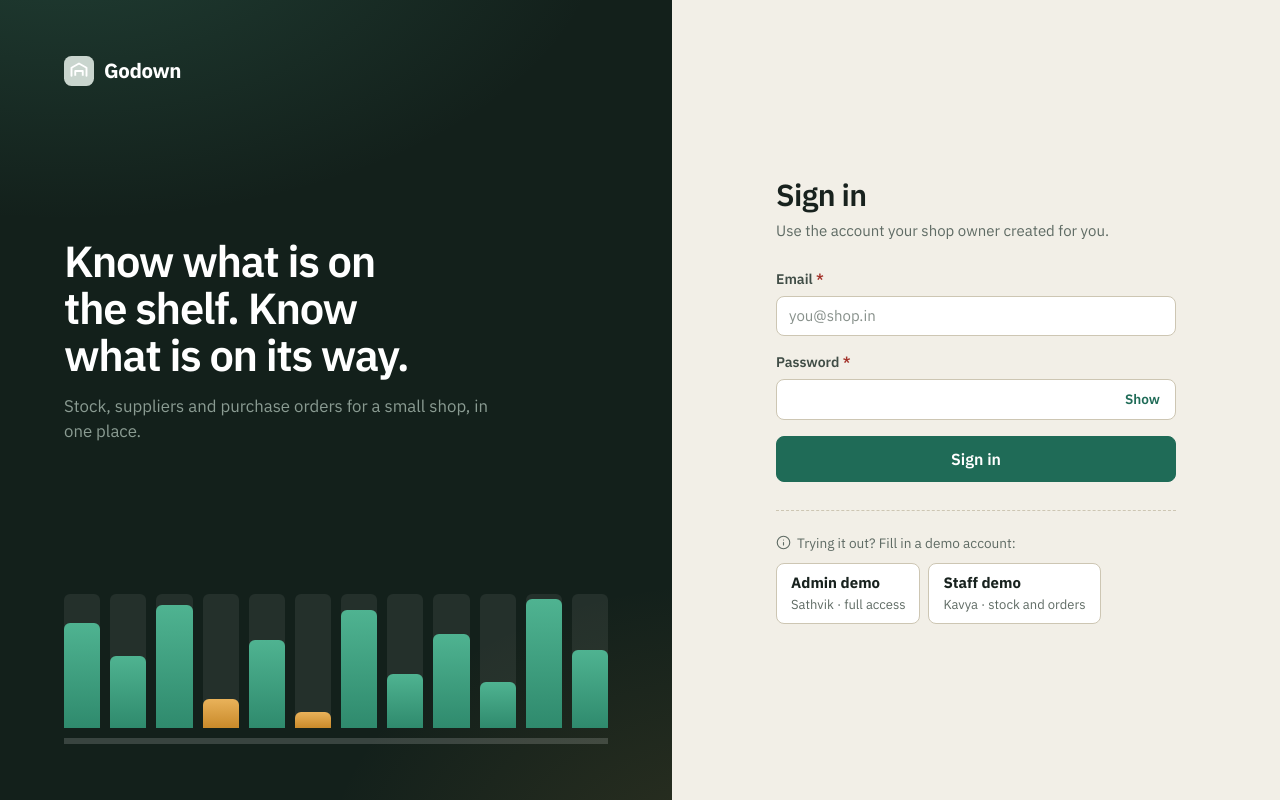
login › rejects a malformed email
Type "not-an-email" into the field labelled "Email *" at [976, 316], box [776,296,1176,336]
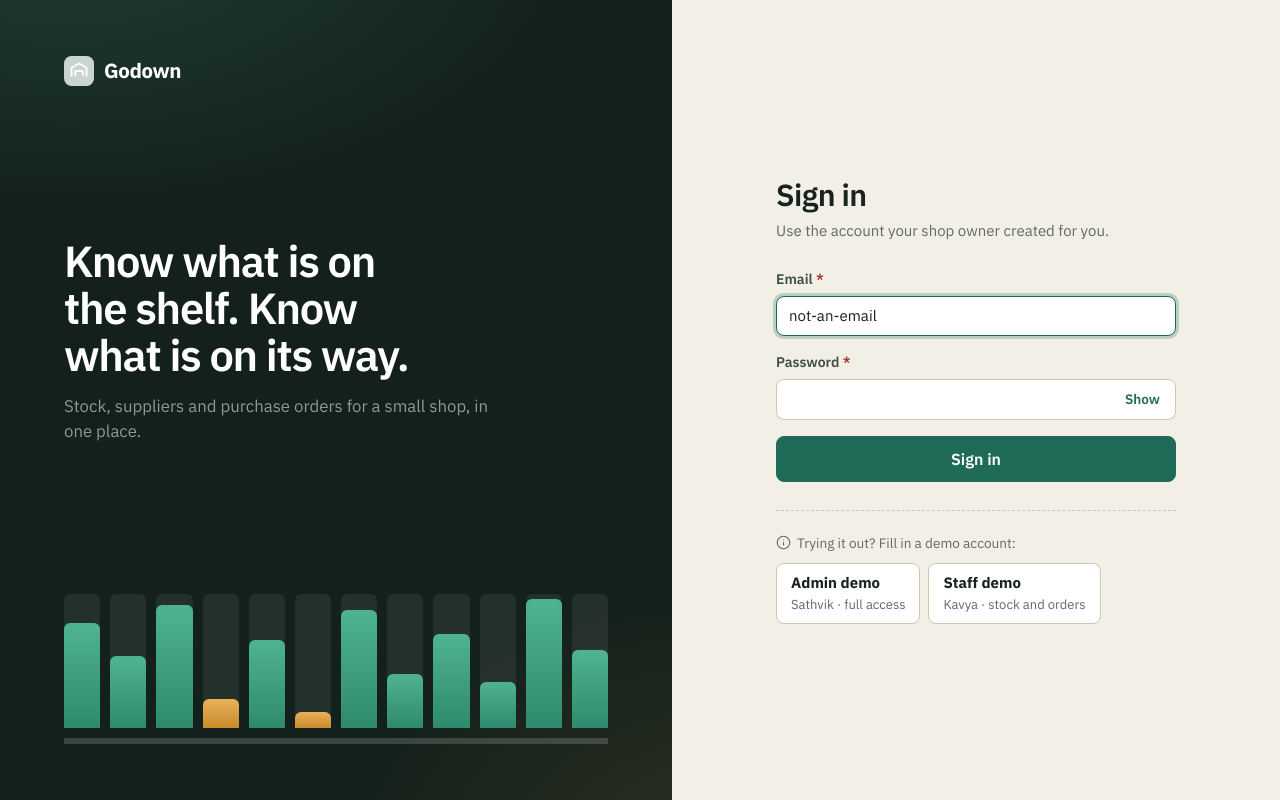
Type "x" into the password field labelled "Password *" at [976, 399], box [776,379,1176,420]
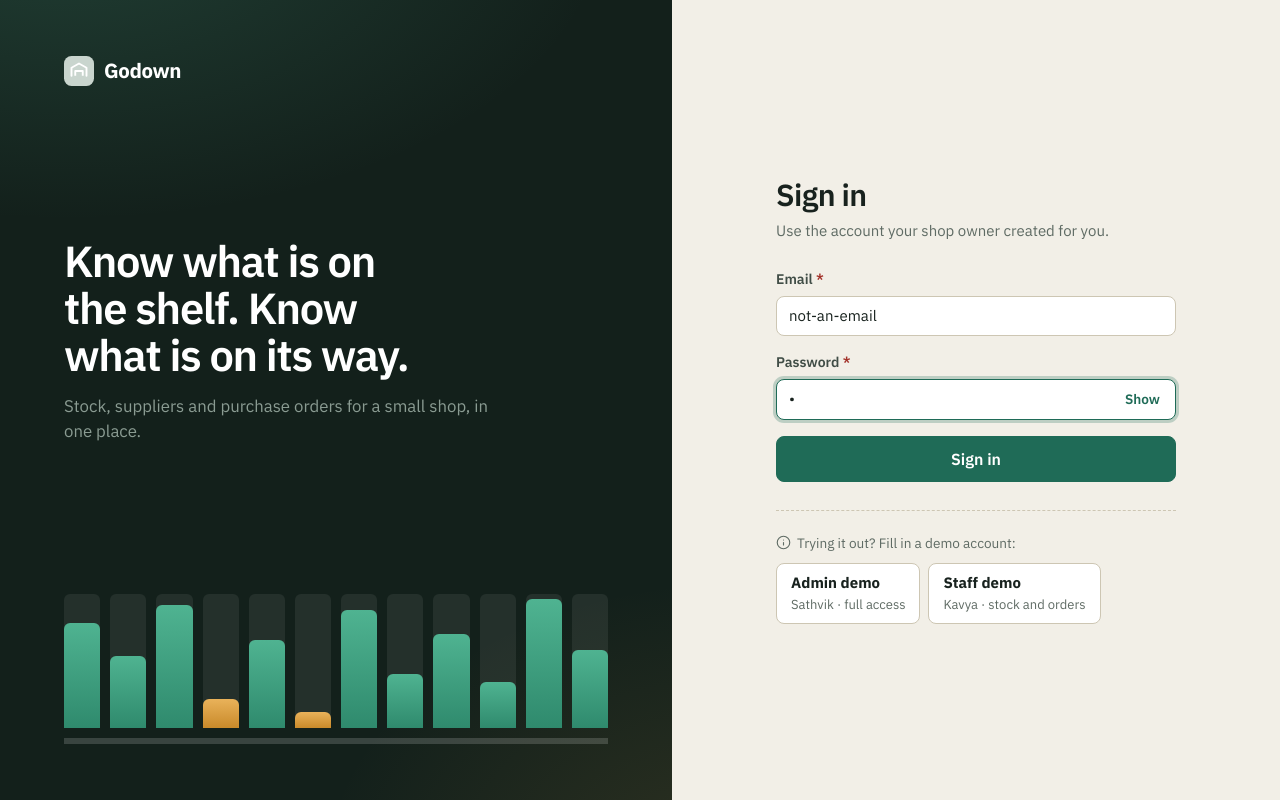
Click the button "Sign in" at [976, 458], box [776,436,1176,482]
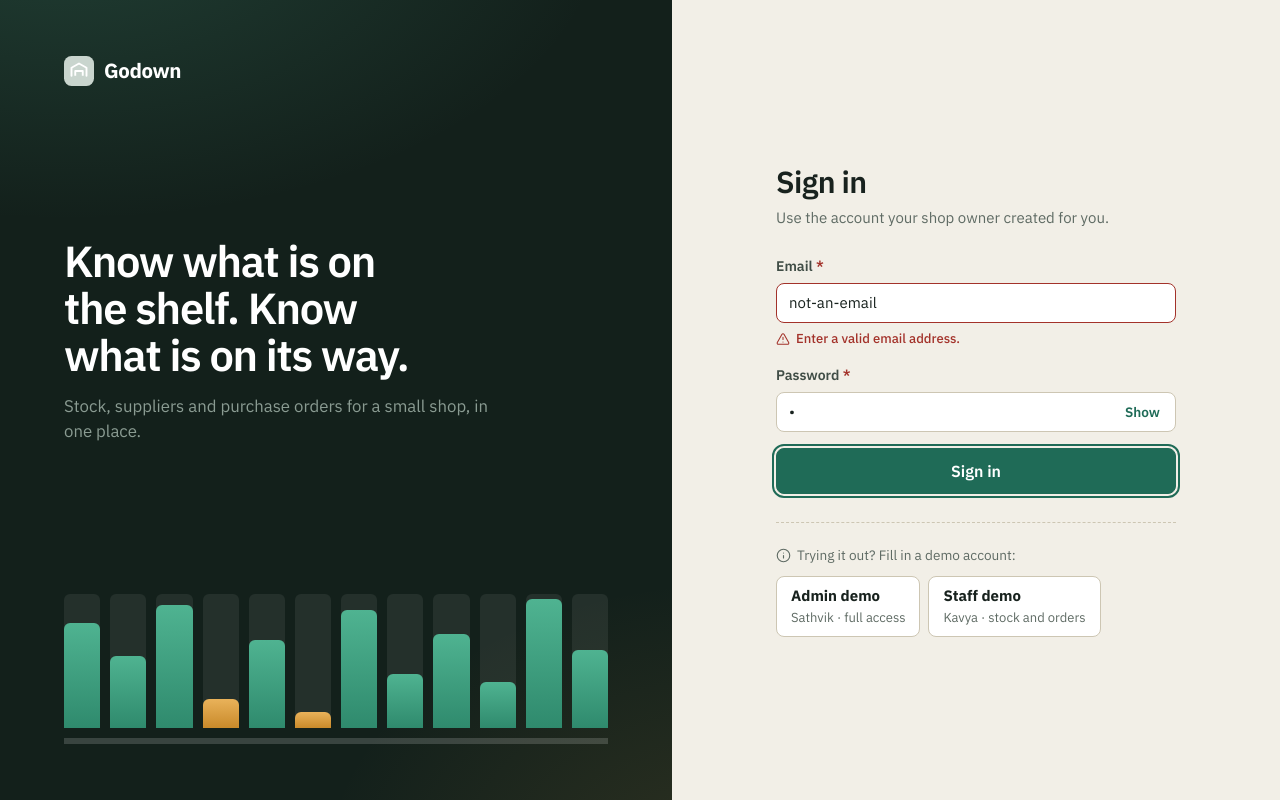
Check: the text "Enter a valid email address." is shown, box [776,330,960,347]
